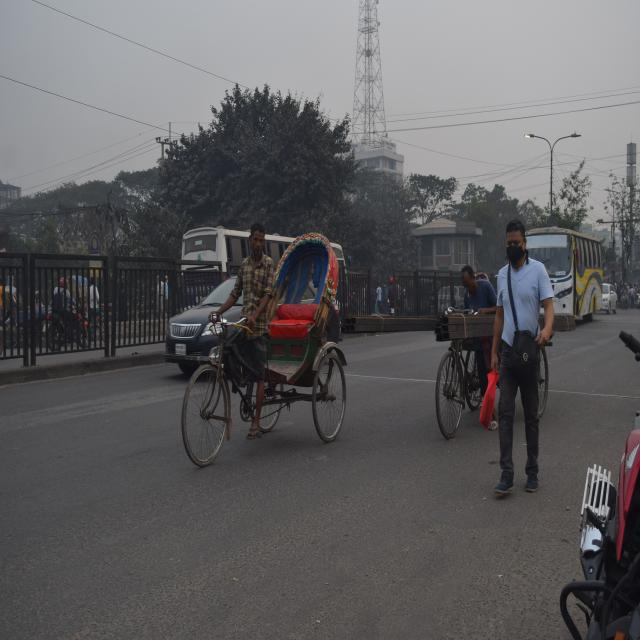bus: (524, 226, 600, 324)
car: (170, 277, 262, 356), (598, 273, 618, 322)
